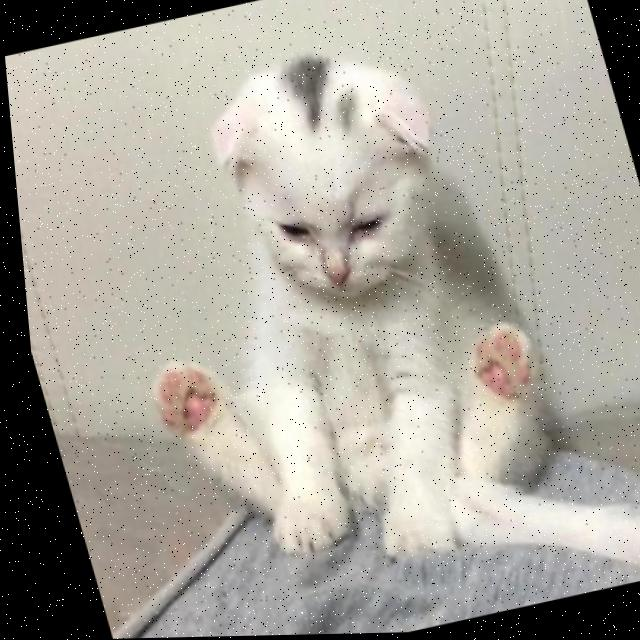Cats: (31, 0, 629, 634)
